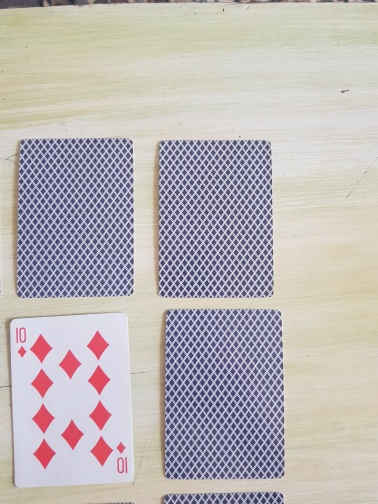ten: (9, 312, 135, 488)
